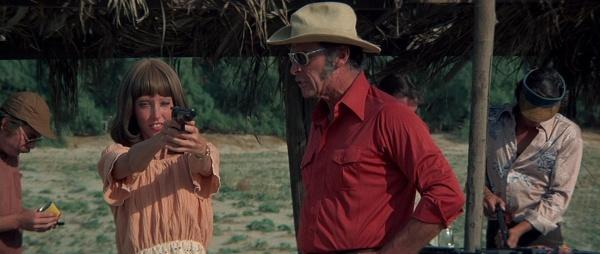Gun: (170, 105, 197, 130)
